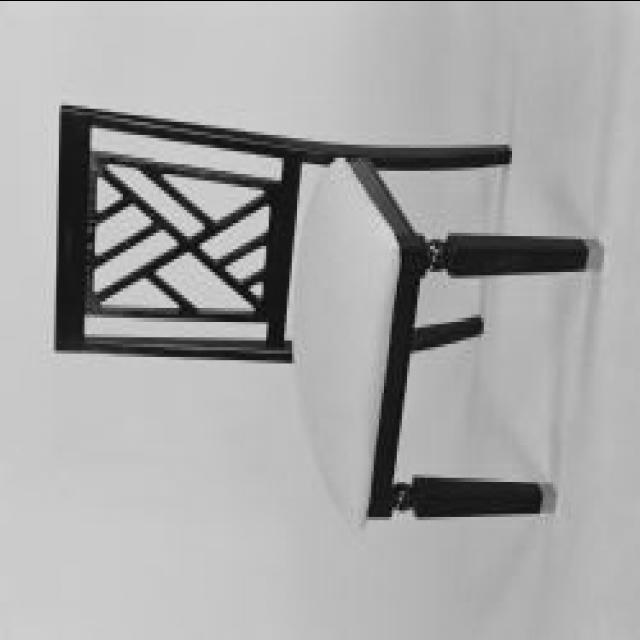chair: (51, 100, 598, 526)
